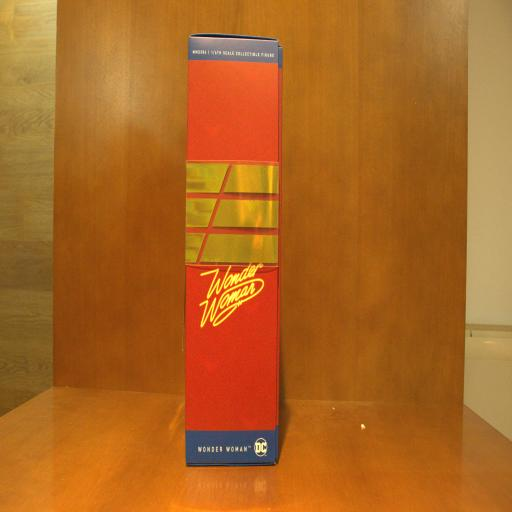WonderWoman: (186, 34, 282, 471)
